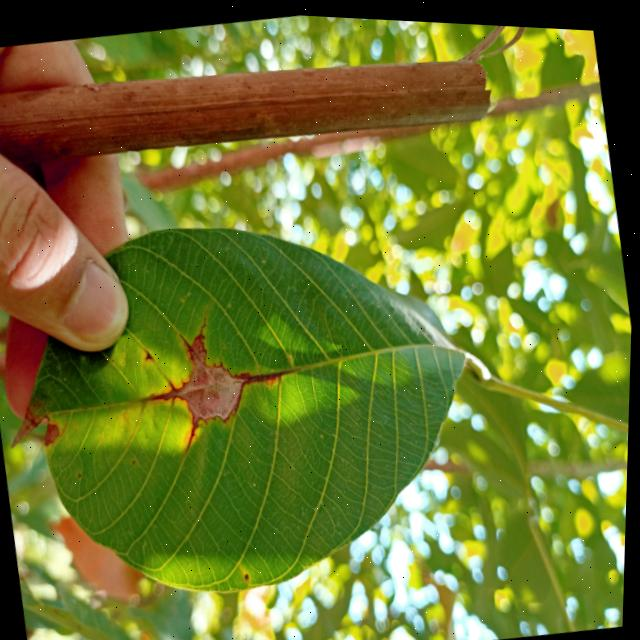Colletotrichum: (247, 570, 252, 577)
Corynespora: (231, 362, 291, 411), (148, 378, 182, 405), (195, 302, 216, 337), (180, 328, 199, 356), (186, 417, 205, 445)
Leaf-Blight: (171, 327, 251, 423)
